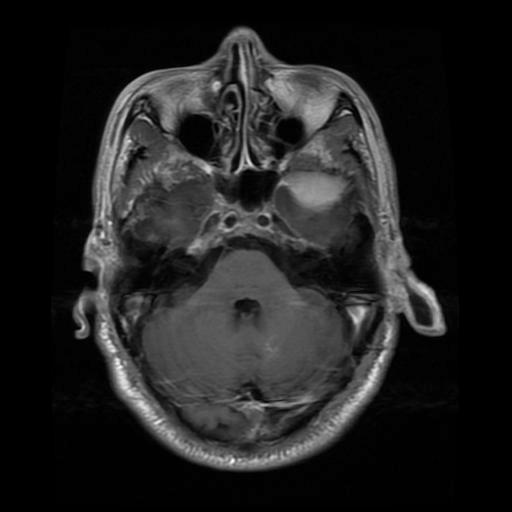Tumour-Meningioma: (277, 164, 361, 226)
